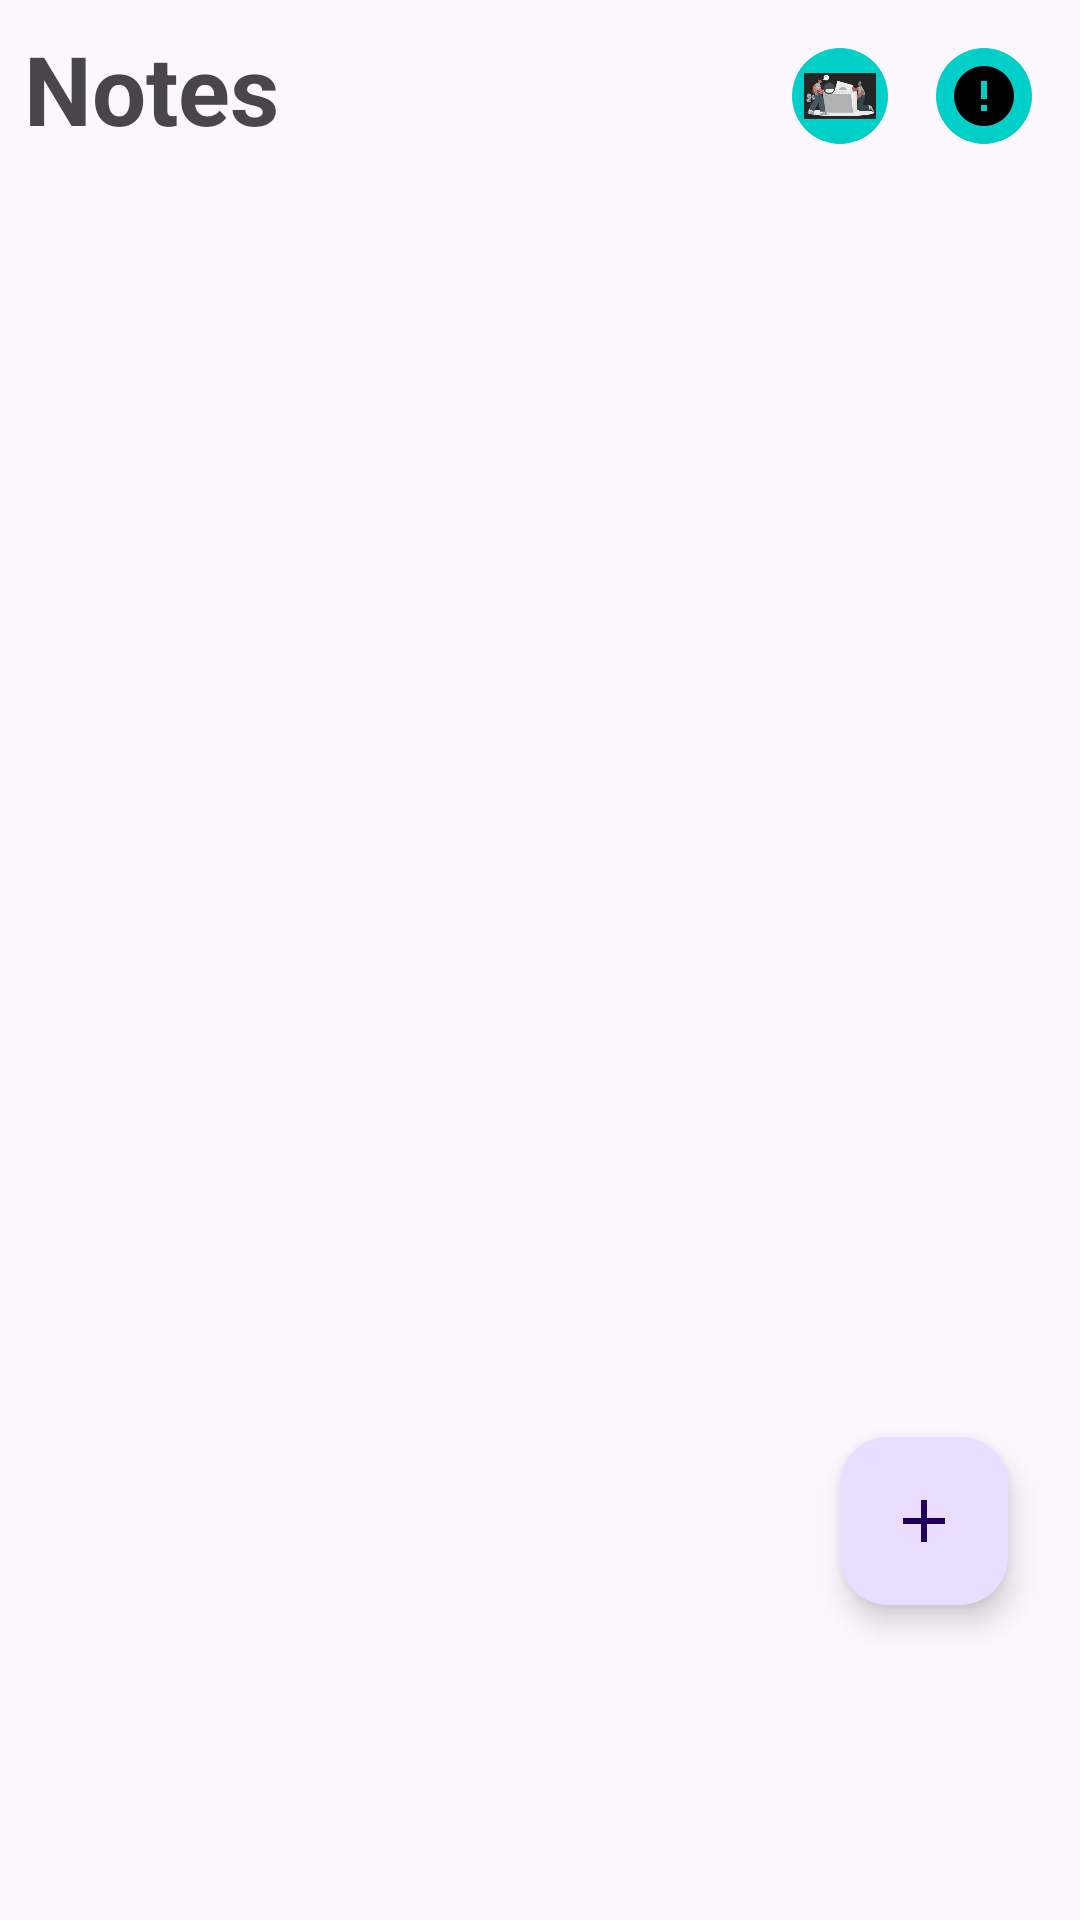

Named icons in this screenshot (1080w x 1920h) and their bounding boxes, (x1,y1,x2,y2):
add new item: (840,1437,1008,1605)
error: (936,48,1032,144)
